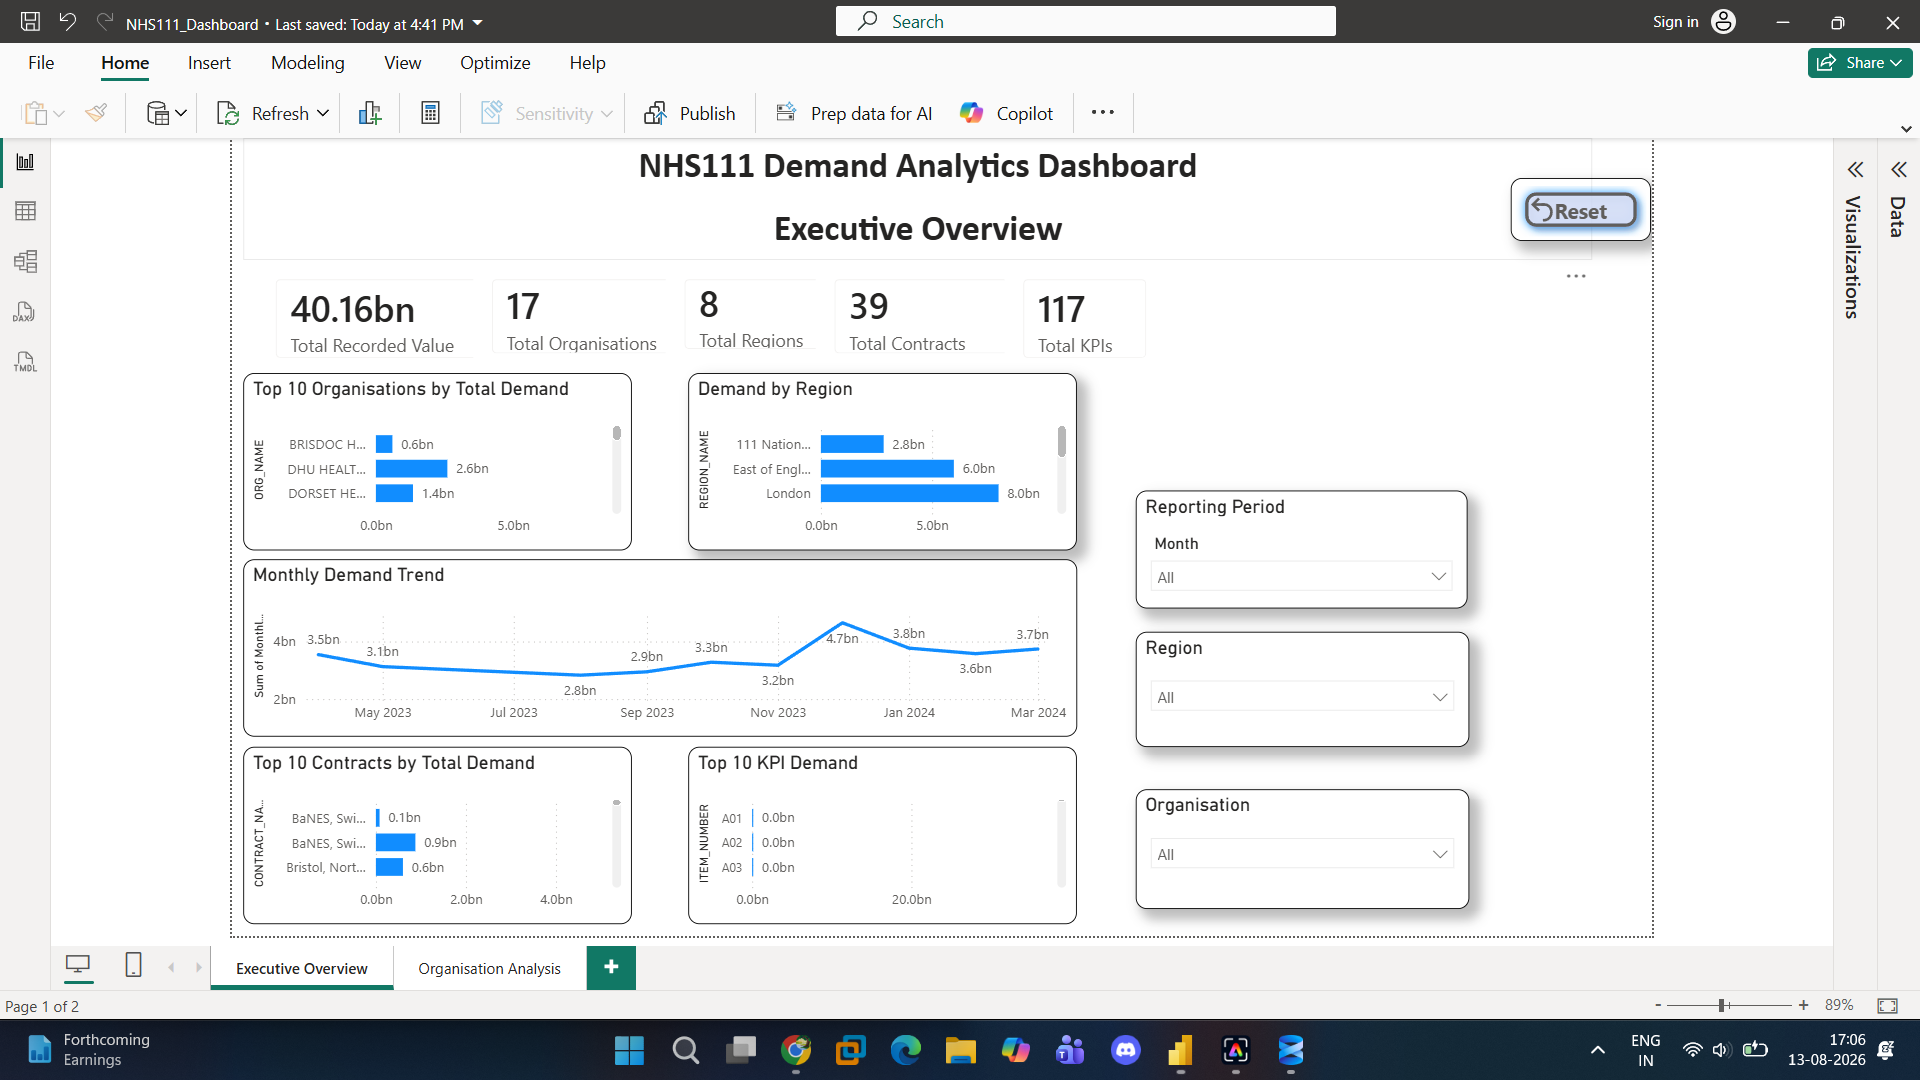

The page's visual inventory and layout, read from the dashboard file:
{"tool":"powerbi","page":{"name":"Executive Overview","canvas":[1280,720],"ordinal":0},"visuals":[{"type":"textbox","box":[9.8,0,1216.7,110.1],"z":0},{"type":"cardVisual","fields":{"Data":["Fact_IUCADC.Total Recorded Value"]},"box":[22,110.1,218.9,105.2],"z":1000},{"type":"cardVisual","fields":{"Data":["Fact_IUCADC.Total Organisations"]},"box":[217.7,110.1,207.9,101.5],"z":2000},{"type":"cardVisual","fields":{"Data":["Fact_IUCADC.Total Regions"]},"box":[391.3,110.1,269,97.8],"z":3000},{"type":"cardVisual","fields":{"Data":["Fact_IUCADC.Total Contracts"]},"box":[525.8,110.1,192,101.5],"z":4000},{"type":"cardVisual","fields":{"Data":["Fact_IUCADC.Total KPIs"]},"box":[697,110.1,145.5,105.2],"z":5000},{"type":"clusteredBarChart","title":"Top 10 Organisations by Total Demand","fields":{"Y":["Sum(Fact_IUCADC.VALUE)"],"Category":["Fact_IUCADC.ORG_NAME"]},"box":[9.8,211.6,350,160],"z":6000},{"type":"clusteredBarChart","title":"Demand by Region","fields":{"Y":["Sum(Fact_IUCADC.VALUE)"],"Category":["Fact_IUCADC.REGION_NAME"]},"box":[410.9,211.6,350,160],"z":7000},{"type":"clusteredBarChart","title":"Top 10 Contracts by Total Demand","fields":{"Category":["Fact_IUCADC.CONTRACT_NAME"],"Y":["Sum(Fact_IUCADC.VALUE)"]},"box":[9.8,549.1,350,160],"z":8000},{"type":"clusteredBarChart","title":"Top 10 KPI Demand","fields":{"Category":["Fact_IUCADC.ITEM_NUMBER"],"Y":["Sum(Fact_IUCADC.VALUE)"]},"box":[410.9,549.1,350,160],"z":9000},{"type":"lineChart","title":"Monthly Demand Trend","fields":{"Y":["Sum(vw_MonthlyDemand.MonthlyDemand)"],"Category":["vw_MonthlyDemand.Month Date"]},"box":[10.1,379.8,751.8,160.1],"z":10000},{"type":"slicer","title":"Reporting Period","fields":{"Values":["vw_MonthlyDemand.Month"]},"box":[814.4,317.9,299.6,106.4],"z":11000},{"type":"slicer","title":"Region","fields":{"Values":["Fact_IUCADC.REGION_NAME"]},"box":[814.4,445.1,300.8,103.9],"z":12000},{"type":"slicer","title":"Organisation","fields":{"Values":["Fact_IUCADC.ORG_NAME"]},"box":[814.4,587,300.8,107.6],"z":13000},{"type":"actionButton","box":[1153.4,36.2,126.6,57],"z":14000}]}

Visuals, with their boxes on the page's 1280x720 design canvas (x1, y1, x2, y2). These are canvas units, not pixel positions in the 1920x1080 screenshot, which may show the page scaled, cropped or inside an application window:
textbox: bbox(10, 0, 1226, 110)
cardVisual - Fact_IUCADC.Total Recorded Value: bbox(22, 110, 241, 215)
cardVisual - Fact_IUCADC.Total Organisations: bbox(218, 110, 426, 212)
cardVisual - Fact_IUCADC.Total Regions: bbox(391, 110, 660, 208)
cardVisual - Fact_IUCADC.Total Contracts: bbox(526, 110, 718, 212)
cardVisual - Fact_IUCADC.Total KPIs: bbox(697, 110, 842, 215)
"Top 10 Organisations by Total Demand" clusteredBarChart: bbox(10, 212, 360, 372)
"Demand by Region" clusteredBarChart: bbox(411, 212, 761, 372)
"Top 10 Contracts by Total Demand" clusteredBarChart: bbox(10, 549, 360, 709)
"Top 10 KPI Demand" clusteredBarChart: bbox(411, 549, 761, 709)
"Monthly Demand Trend" lineChart: bbox(10, 380, 762, 540)
"Reporting Period" slicer: bbox(814, 318, 1114, 424)
"Region" slicer: bbox(814, 445, 1115, 549)
"Organisation" slicer: bbox(814, 587, 1115, 695)
actionButton: bbox(1153, 36, 1280, 93)
